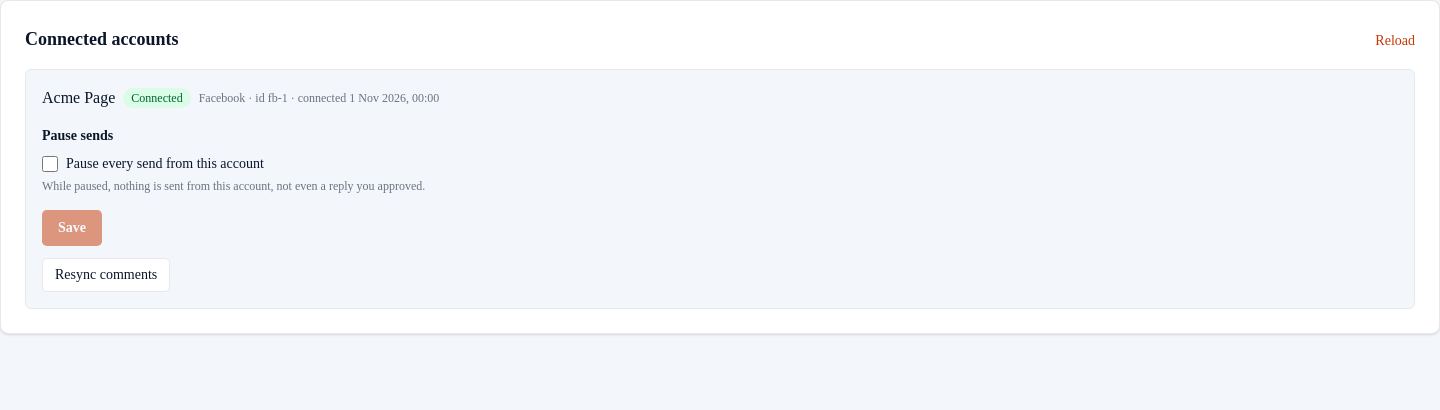
Scenario: a save GeekAPI refuses shows its sentence and keeps what was ticked, so it can be tried again
Step 1. Click the checkbox labelled "Pause every send from this account" → (50, 164), box [42,156,58,172]
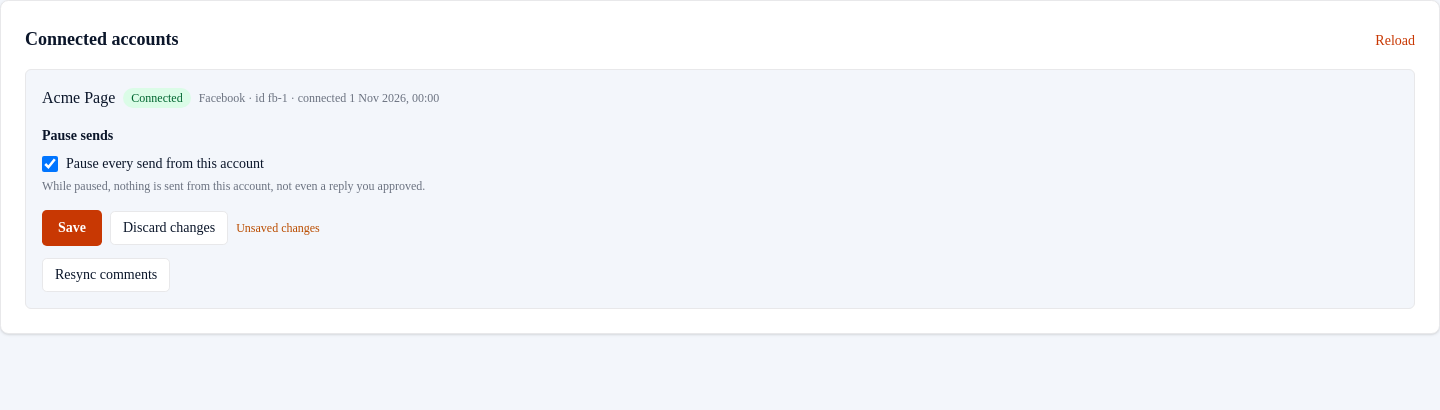
Step 2. Click the button "Save" → (72, 228), box [42,210,102,246]
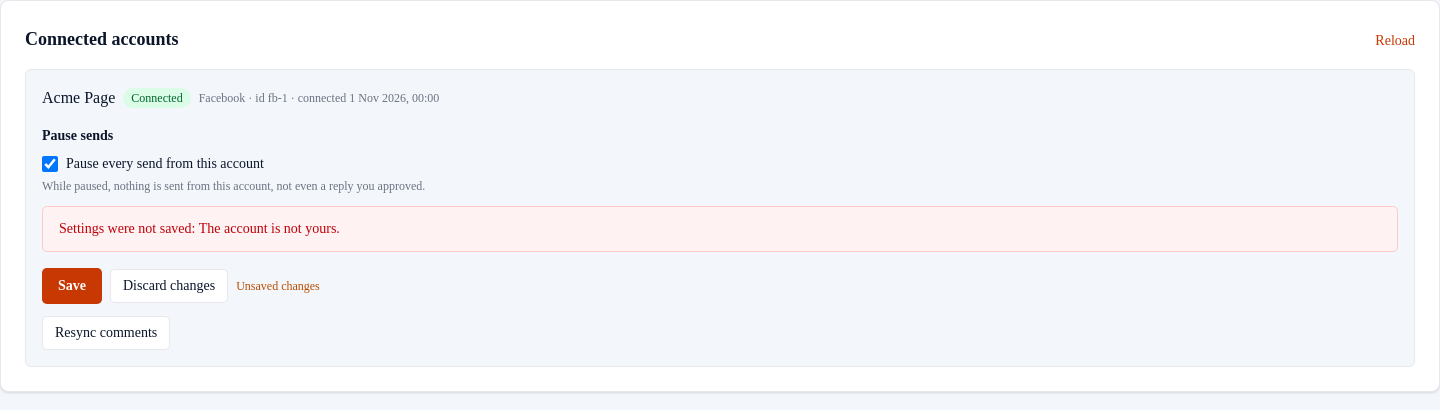
expect the text "Unsaved changes" is shown: met, box [236,278,320,294]
expect the text "Settings were not saved: The account is not yours." is shown: met, box [59,221,340,236]
